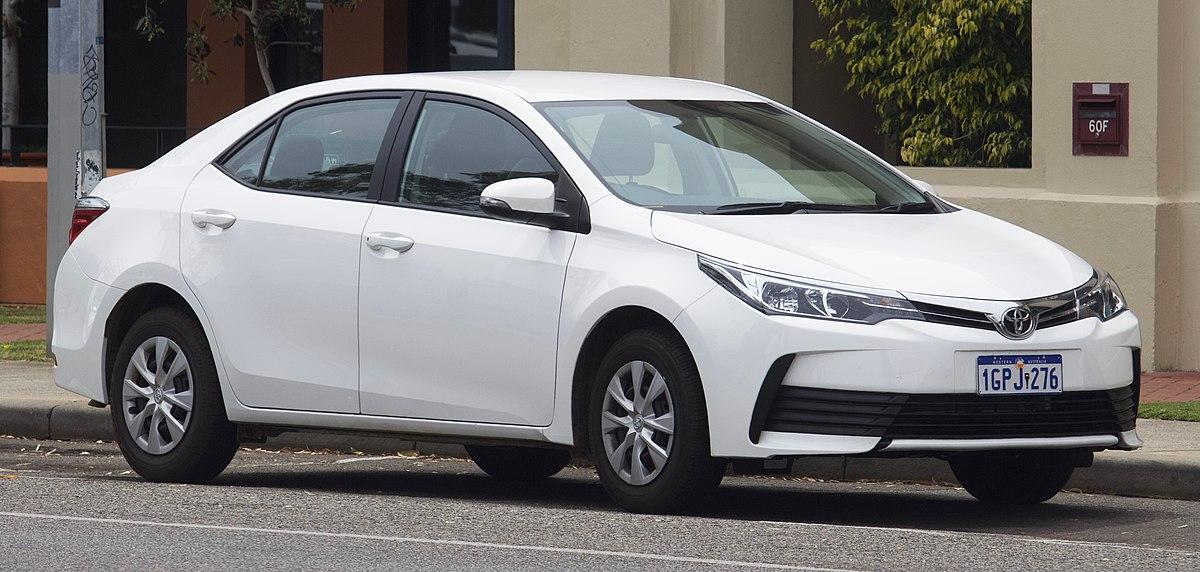windshield: (532, 97, 963, 217)
